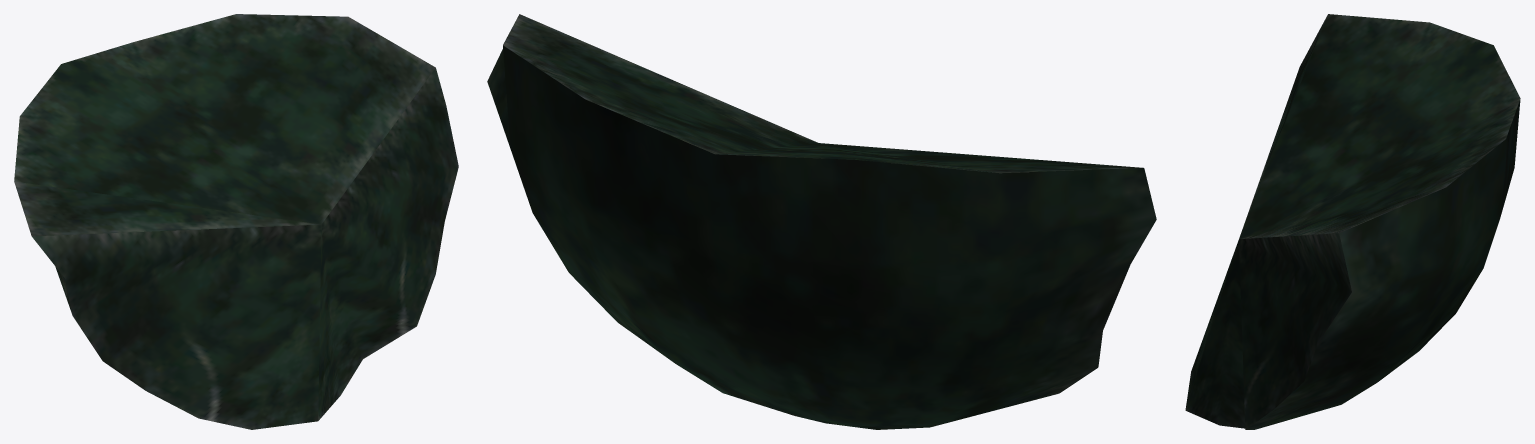
File: orbpiece_emerald.dae
3 views of the same model, side by side, from view 1: azimuth 30°, elevation 25°; view 2: azimuth 150°, elevation 25°; view 3: azimuth 270°, elevation 25° (orthographic). The views are drawn at different scales.
Parts seen in each view (by area): view 1: orb2; view 2: orb2; view 3: orb2.
Boxes of the visible parts, x1,y1,x2,y2 form: orb2: [14, 14, 458, 429]; orb2: [487, 14, 1156, 429]; orb2: [1185, 14, 1520, 429].
Size of the model in its own units: 0.3605 by 0.2199 by 0.2178.
